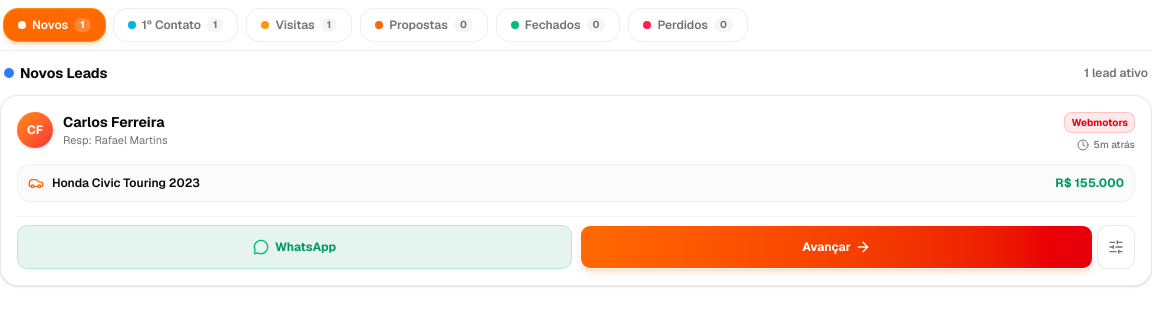
Test: [MOB-KANBAN] MobileKanbanTabs (Visualização Mobile do Funil de Vendas) › [MOB-KANBAN-03] Deve exibir estado vazio amigável quando a etapa selecionada não tiver leads
This screenshot has width=1152, height=326.
Clica na aba "Propostas" (que tem 0 leads)
Click the tab with test id "tab-stage-proposal". click: (424, 25)
box: left=360, top=8, right=488, bottom=42
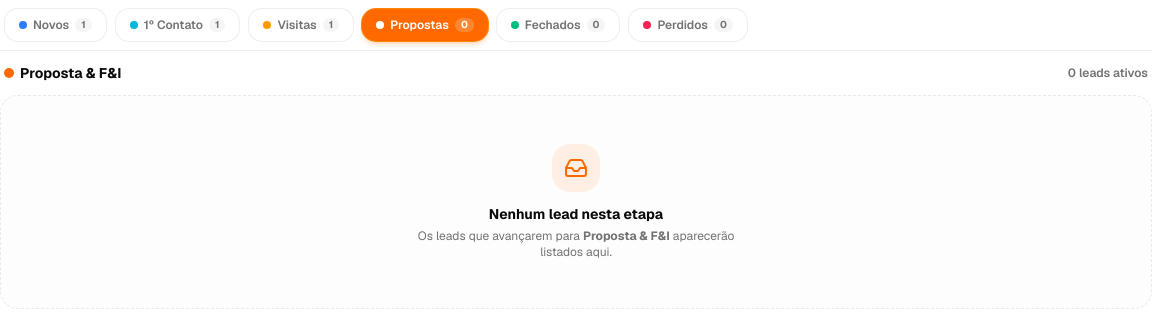
Result: the element with test id "empty-stage-state" is shown
Result: the text "Nenhum lead nesta etapa" is shown at left=489, top=204, right=663, bottom=224
Result: the text "Carlos Ferreira" is gone
